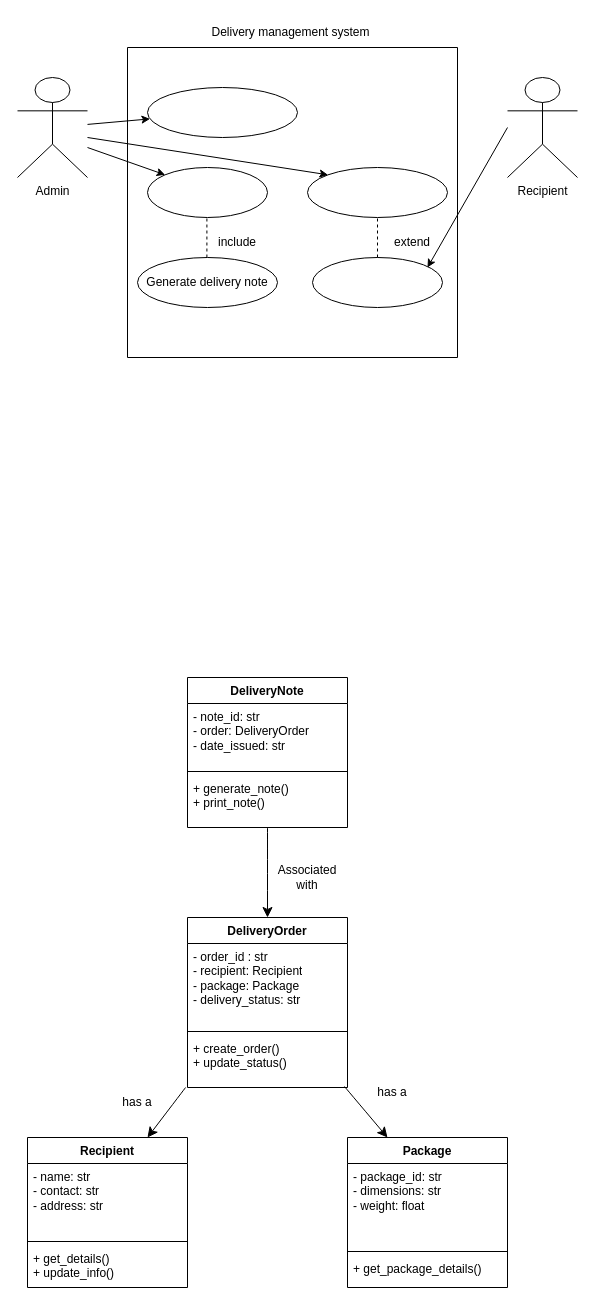
The diagram is 595 pixels wide and 1307 high, and some of its shapes have lost their labels. Here are the shapes that lost their labels. From the top down, the centre of each, then its label:
At point 222,112: "Manage customer info".
At point 207,192: "Create delivery order".
At point 377,192: "Update delivery status".
At point 377,282: "Track delivery status".
